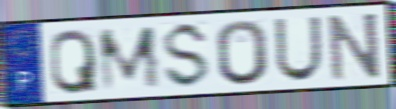M: (96, 23, 164, 94)
N: (326, 10, 384, 83)
O: (214, 18, 270, 87)
Q: (48, 26, 100, 96)
S: (160, 20, 212, 91)
U: (272, 14, 323, 84)
